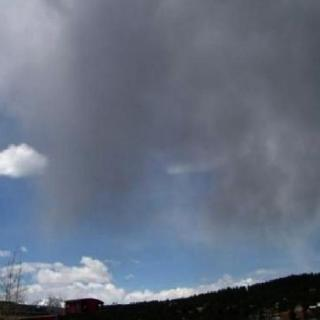Cumulus: (0, 1, 320, 254)
